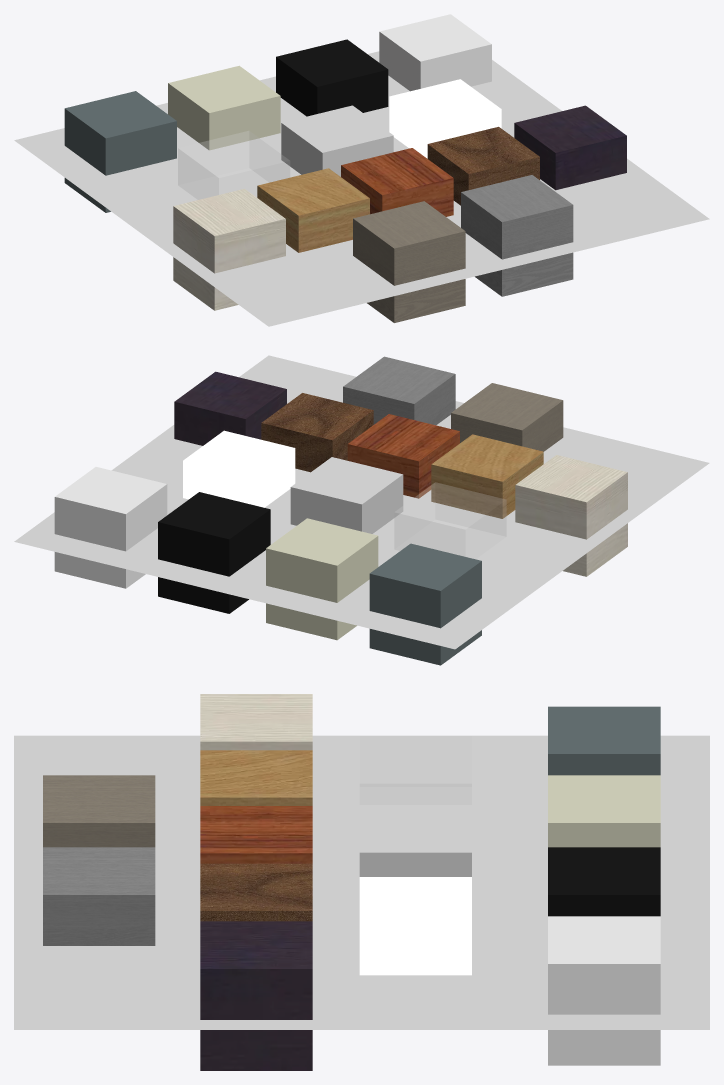
Rendered from Materials.glb.
The picture shows the model from 3 angles, top to bottom: view 1: azimuth 30°, elevation 25°; view 2: azimuth 150°, elevation 25°; view 3: azimuth 270°, elevation 25°; orthographic projection. The views are drawn at different scales.
Parts seen in each view (by area): view 1: Plane.012, Cube.012, Cube.013, Cube.007, Cube, Cube.001, Cube.002, Cube.003, Cube.011, Cube.008, Cube.006, Cube.005 (+3 smaller); view 2: Plane.012, Cube, Cube.002, Cube.003, Cube.001, Cube.007, Cube.005, Cube.006, Cube.008, Cube.004, Cube.011, Cube.013 (+3 smaller); view 3: Plane.012, Cube.011, Cube.003, Cube.013, Cube.006, Cube.001, Cube.012, Cube.005, Cube, Cube.002, Cube.004, Cube.010 (+3 smaller).
Boxes of the visible parts, x1=… form: Plane.012: x1=14, y1=51, x2=709, y2=326; Cube.012: x1=353, y1=201, x2=465, y2=322; Cube.013: x1=461, y1=175, x2=573, y2=296; Cube.007: x1=173, y1=188, x2=285, y2=310; Cube: x1=64, y1=91, x2=176, y2=212; Cube.001: x1=168, y1=65, x2=280, y2=150; Cube.002: x1=276, y1=39, x2=388, y2=116; Cube.003: x1=379, y1=14, x2=491, y2=91; Cube.011: x1=514, y1=105, x2=626, y2=190; Cube.008: x1=257, y1=168, x2=369, y2=252; Cube.006: x1=389, y1=79, x2=501, y2=158; Cube.005: x1=281, y1=105, x2=393, y2=176; Plane.012: x1=14, y1=355, x2=709, y2=649; Cube: x1=369, y1=543, x2=481, y2=665; Cube.002: x1=158, y1=492, x2=270, y2=613; Cube.003: x1=54, y1=467, x2=167, y2=588; Cube.001: x1=266, y1=518, x2=378, y2=640; Cube.007: x1=515, y1=455, x2=627, y2=576; Cube.005: x1=290, y1=457, x2=403, y2=533; Cube.006: x1=183, y1=430, x2=295, y2=507; Cube.008: x1=431, y1=434, x2=543, y2=518; Cube.004: x1=394, y1=482, x2=506, y2=558; Cube.011: x1=174, y1=371, x2=286, y2=445; Cube.013: x1=343, y1=356, x2=455, y2=425; Plane.012: x1=14, y1=735, x2=709, y2=1029; Cube.011: x1=200, y1=921, x2=312, y2=1070; Cube.003: x1=548, y1=916, x2=660, y2=1065; Cube.013: x1=43, y1=847, x2=155, y2=945; Cube.006: x1=359, y1=877, x2=471, y2=975; Cube.001: x1=548, y1=775, x2=660, y2=847; Cube.012: x1=43, y1=775, x2=155, y2=847; Cube.005: x1=359, y1=805, x2=471, y2=876; Cube: x1=548, y1=706, x2=660, y2=775; Cube.002: x1=548, y1=847, x2=660, y2=916; Cube.004: x1=360, y1=736, x2=471, y2=804; Cube.010: x1=200, y1=863, x2=312, y2=921.
Size of the model in its own units: 6.16 by 0.9951 by 6.16.
Materials: 15 (7 with a texture image).
